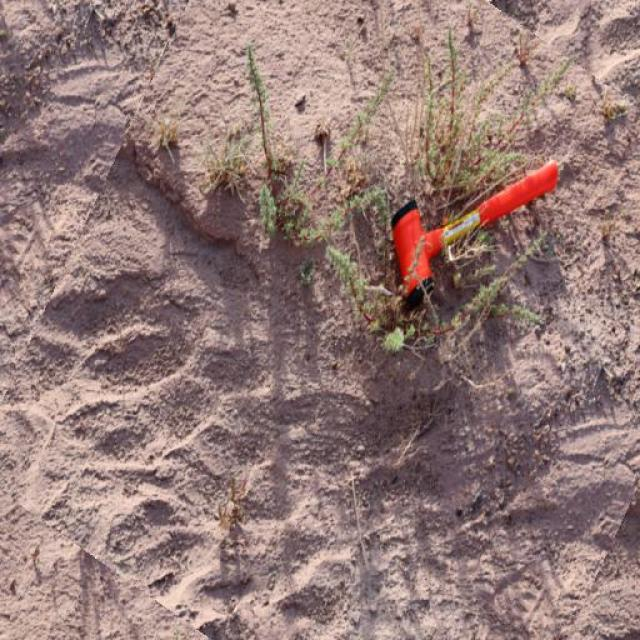mallet: (388, 156, 558, 310)
